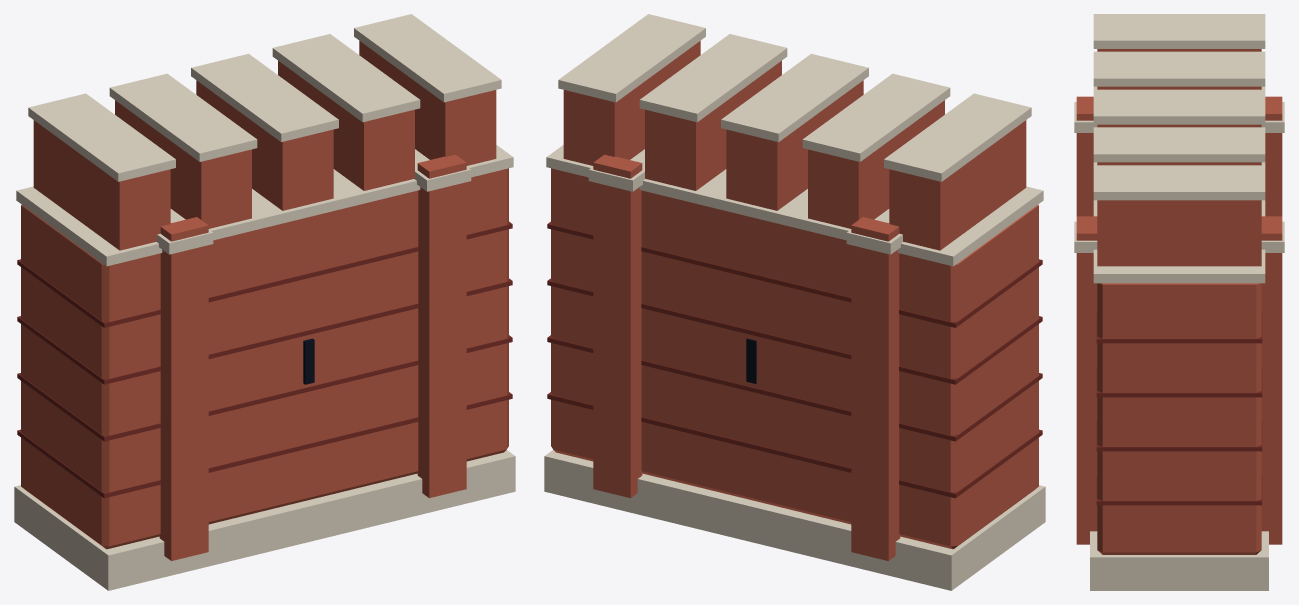
File: bld_kremlin_wall_c.glb
3 renders of one model, left to right at view 1: azimuth 30°, elevation 25°; view 2: azimuth 150°, elevation 25°; view 3: azimuth 270°, elevation 25°, orthographic. The views are drawn at different scales.
Visible parts, largest first — view 1: bld_kremlin_wall_c; view 2: bld_kremlin_wall_c; view 3: bld_kremlin_wall_c.
Part boxes in pixels (left/top/right/bottom): bld_kremlin_wall_c: left=14, top=14, right=515, bottom=590; bld_kremlin_wall_c: left=544, top=14, right=1045, bottom=590; bld_kremlin_wall_c: left=1074, top=14, right=1284, bottom=590.
Size of the model in its own units: 6.02 by 5.82 by 2.82.
Materials: 1 (1 with a texture image).
